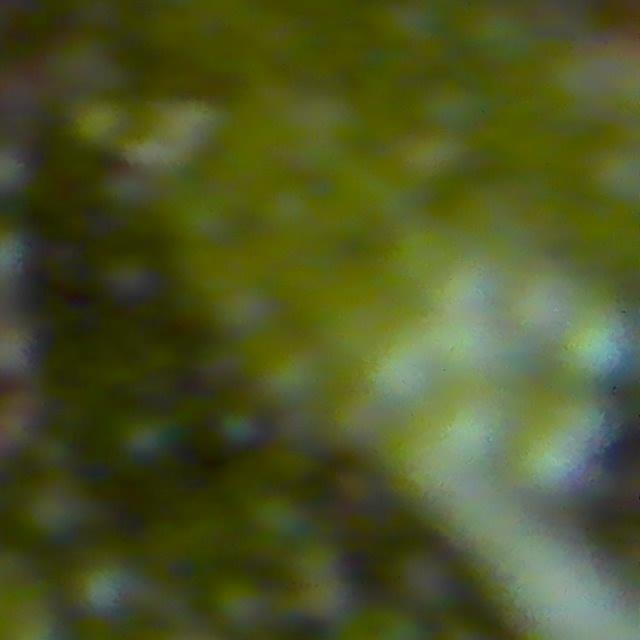SeaGrape: (507, 400, 606, 500), (423, 386, 512, 473), (556, 304, 634, 385), (252, 338, 333, 413), (19, 472, 96, 544), (74, 556, 143, 622), (210, 574, 274, 639), (114, 411, 175, 466)
